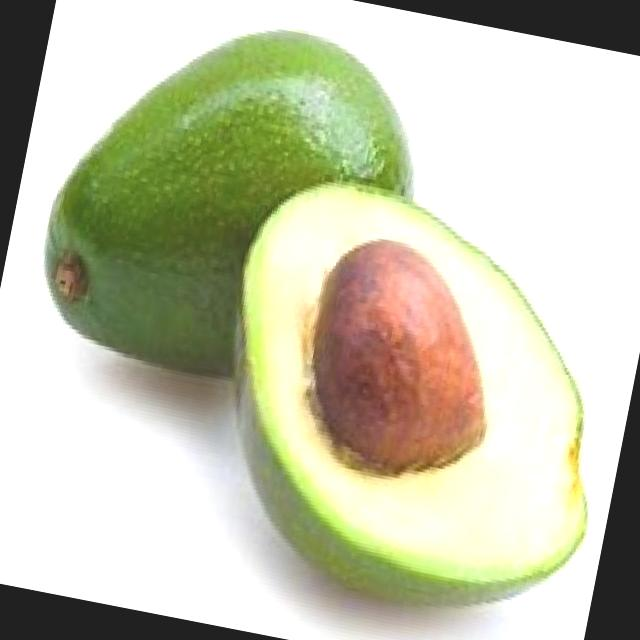avocado: (176, 166, 640, 640), (12, 0, 440, 414)
